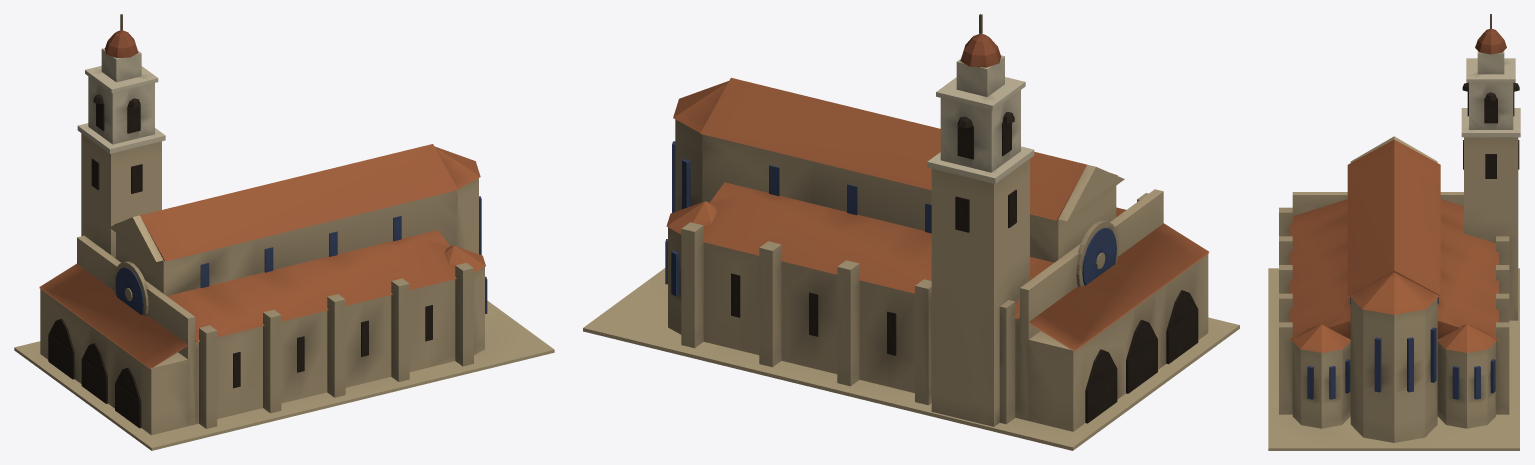
Rendered from san-lorenzo-1600.glb.
3 views of the same model, side by side, from view 1: azimuth 30°, elevation 25°; view 2: azimuth 150°, elevation 25°; view 3: azimuth 270°, elevation 25° (orthographic). The views are drawn at different scales.
Parts seen in each view (by area): view 1: p1_church, p2_tower, p0_ground; view 2: p1_church, p2_tower, p0_ground; view 3: p1_church, p2_tower, p0_ground.
Part boxes in pixels (x1=…): p1_church: x1=39, y1=144, x2=487, y2=435; p2_tower: x1=77, y1=14, x2=165, y2=257; p0_ground: x1=14, y1=300, x2=554, y2=450; p1_church: x1=665, y1=77, x2=1208, y2=431; p2_tower: x1=927, y1=14, x2=1034, y2=426; p0_ground: x1=583, y1=268, x2=1239, y2=450; p1_church: x1=1279, y1=136, x2=1509, y2=442; p2_tower: x1=1461, y1=14, x2=1520, y2=320; p0_ground: x1=1268, y1=268, x2=1519, y2=450.
Bounding box in the file's own units: 44 × 33.9 × 26.05.
